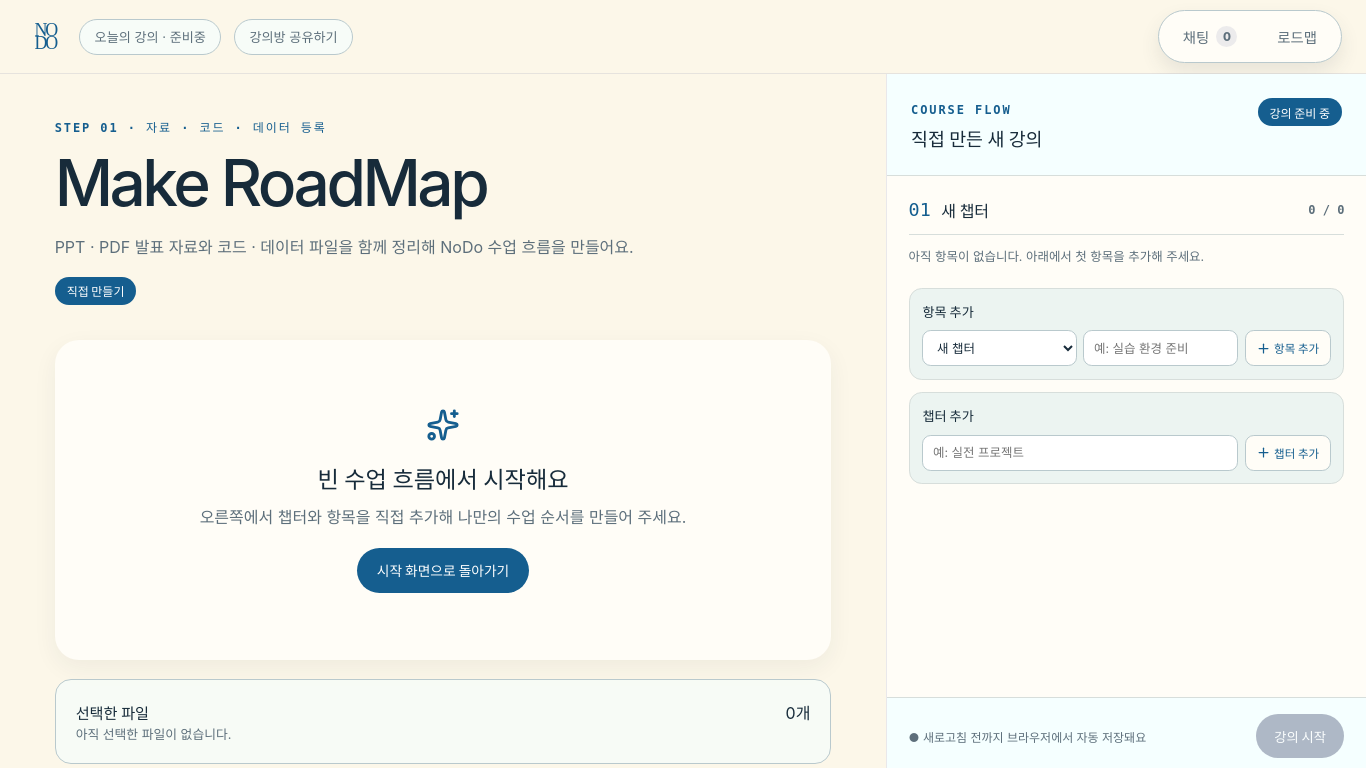
Test: NoDo 00-7 demo course flow › 새 챕터를 추가한다
In the field named "새 챕터 이름": (1080, 453) [922,435,1238,471], type "실전 프로젝트"
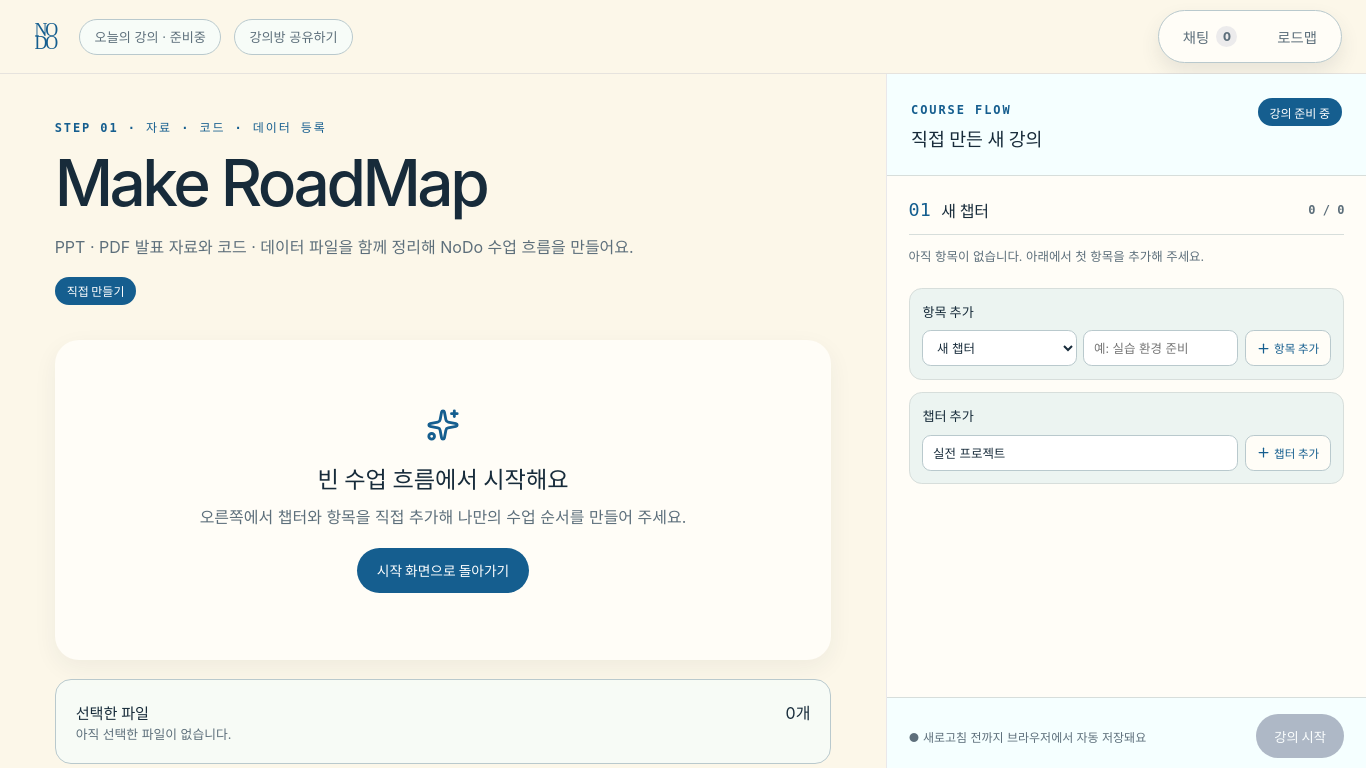
Click the button "챕터 추가": click(1288, 453) [1244,435,1331,471]
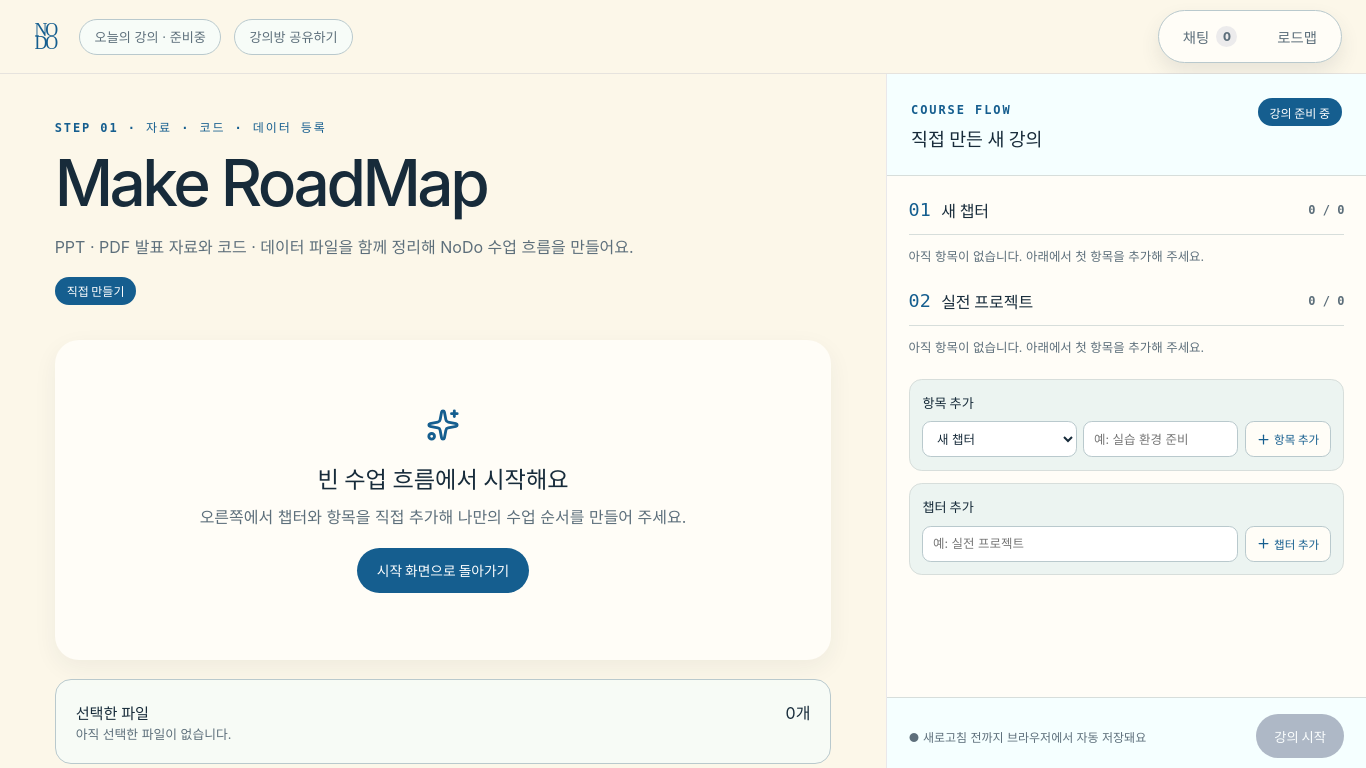
Expected: the heading "실전 프로젝트" is shown, [941,292,1033,312]
